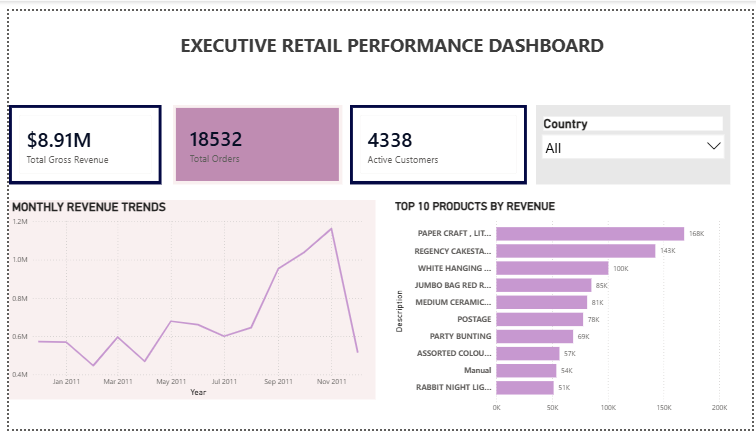

This screenshot's page, from the dashboard's own definition file:
{"tool":"powerbi","page":{"name":"Page 1","canvas":[1280,720],"ordinal":0},"visuals":[{"type":"cardVisual","fields":{"Data":["Sum(cleaned_retail_data.TotalSales)"]},"box":[0,161.7,263.3,136.7],"z":0},{"type":"cardVisual","fields":{"Data":["Count(cleaned_retail_data.InvoiceNo)"]},"box":[283.3,161.7,291.7,136.7],"z":1000},{"type":"cardVisual","fields":{"Data":["Count(cleaned_retail_data.CustomerID)"]},"box":[588.3,161.7,305,136.7],"z":2000},{"type":"lineChart","title":"MONTHLY REVENUE TRENDS","fields":{"Y":["Sum(cleaned_retail_data.TotalSales)"],"Category":["cleaned_retail_data.InvoiceDate.Variation.Date Hierarchy.Year","cleaned_retail_data.InvoiceDate.Variation.Date Hierarchy.Month"]},"box":[0,326,632,344],"z":3000},{"type":"clusteredBarChart","title":"TOP 10 PRODUCTS BY REVENUE","fields":{"Category":["cleaned_retail_data.Description"],"Y":["Sum(cleaned_retail_data.TotalSales)"]},"box":[660,326.7,583.3,376.7],"z":4000},{"type":"slicer","fields":{"Values":["cleaned_retail_data.Country"]},"box":[908.3,161.7,335,136.7],"z":5000},{"type":"textbox","box":[210,31.7,900,105],"z":6000}]}

Visuals, with their boxes in screenshot pixels (x1, y1, x2, y2), scaled from the page's 1280x720 canvas onto the 756x436 screenshot:
cardVisual - Sum(cleaned_retail_data.TotalSales): [0,98,156,181]
cardVisual - Count(cleaned_retail_data.InvoiceNo): [167,98,340,181]
cardVisual - Count(cleaned_retail_data.CustomerID): [347,98,528,181]
"MONTHLY REVENUE TRENDS" lineChart: [0,197,373,406]
"TOP 10 PRODUCTS BY REVENUE" clusteredBarChart: [390,198,734,426]
slicer - cleaned_retail_data.Country: [536,98,734,181]
textbox: [124,19,656,83]
